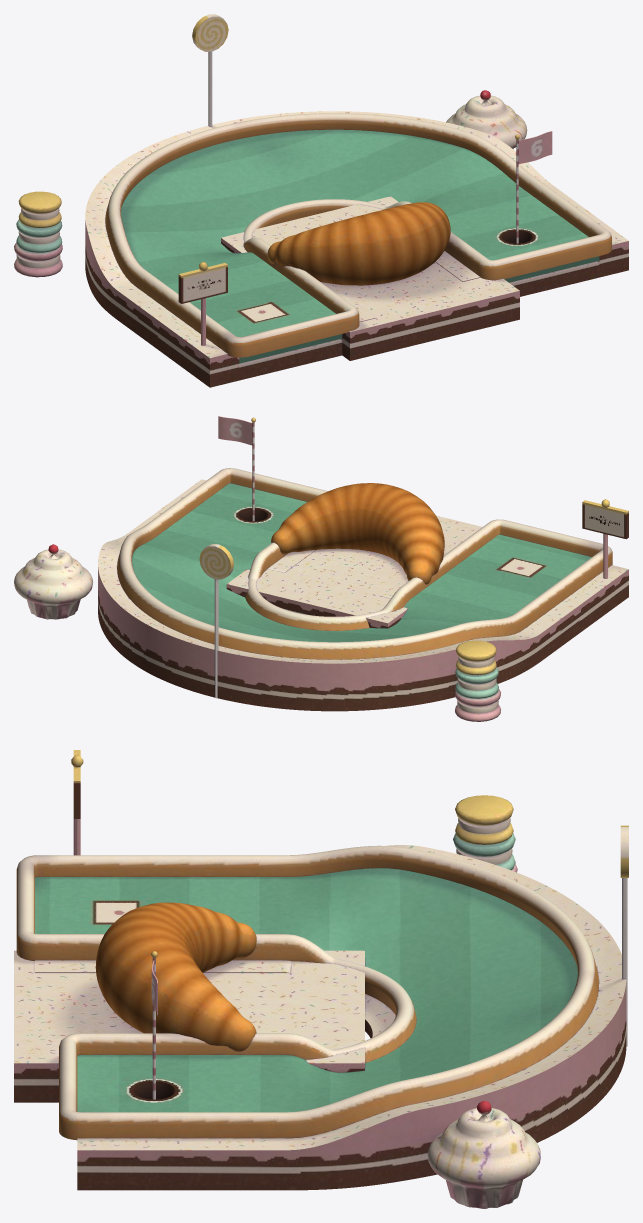
File: hole06.glb
3 views of the same model, one above another, from view 1: azimuth 30°, elevation 25°; view 2: azimuth 150°, elevation 25°; view 3: azimuth 270°, elevation 25° (orthographic). The views are drawn at different scales.
Parts seen in each view (by area): view 1: Green, Base, Rails, GiantCroissant, Decor1, Decor2, HoleSign, Decor3, Flag; view 2: Base, Green, Rails, GiantCroissant, Decor2, Decor1, HoleSign, Decor3, Flag; view 3: Green, Base, Rails, GiantCroissant, Decor2, Decor1, Decor3, HoleSign, Flag.
Part boxes in pixels (left/top/right/bottom): Green: left=121, top=129, right=599, bottom=363; Base: left=85, top=111, right=628, bottom=387; Rails: left=105, top=113, right=611, bottom=357; GiantCroissant: left=267, top=202, right=450, bottom=285; Decor1: left=14, top=191, right=62, bottom=277; Decor2: left=446, top=90, right=527, bottom=148; HoleSign: left=178, top=262, right=227, bottom=345; Decor3: left=192, top=14, right=228, bottom=126; Flag: left=515, top=131, right=552, bottom=243; Base: left=98, top=479, right=628, bottom=711; Green: left=132, top=483, right=591, bottom=642; Rails: left=117, top=468, right=612, bottom=659; GiantCroissant: left=271, top=483, right=444, bottom=584; Decor2: left=14, top=544, right=93, bottom=619; Decor1: left=455, top=640, right=500, bottom=721; HoleSign: left=582, top=499, right=628, bottom=578; Decor3: left=199, top=544, right=233, bottom=698; Flag: left=218, top=416, right=255, bottom=521; Green: left=35, top=868, right=577, bottom=1112; Base: left=14, top=845, right=626, bottom=1190; Rails: left=16, top=845, right=598, bottom=1140; GiantCroissant: left=95, top=902, right=256, bottom=1051; Decor2: left=427, top=1101, right=540, bottom=1208; Decor1: left=453, top=795, right=517, bottom=872; Decor3: left=620, top=825, right=628, bottom=1046; HoleSign: left=71, top=750, right=83, bottom=855; Flag: left=151, top=951, right=157, bottom=1099.
Size of what is drawn, in the model's own units: 5.64 by 1.71 by 4.38.
1 material, 1 textured.
